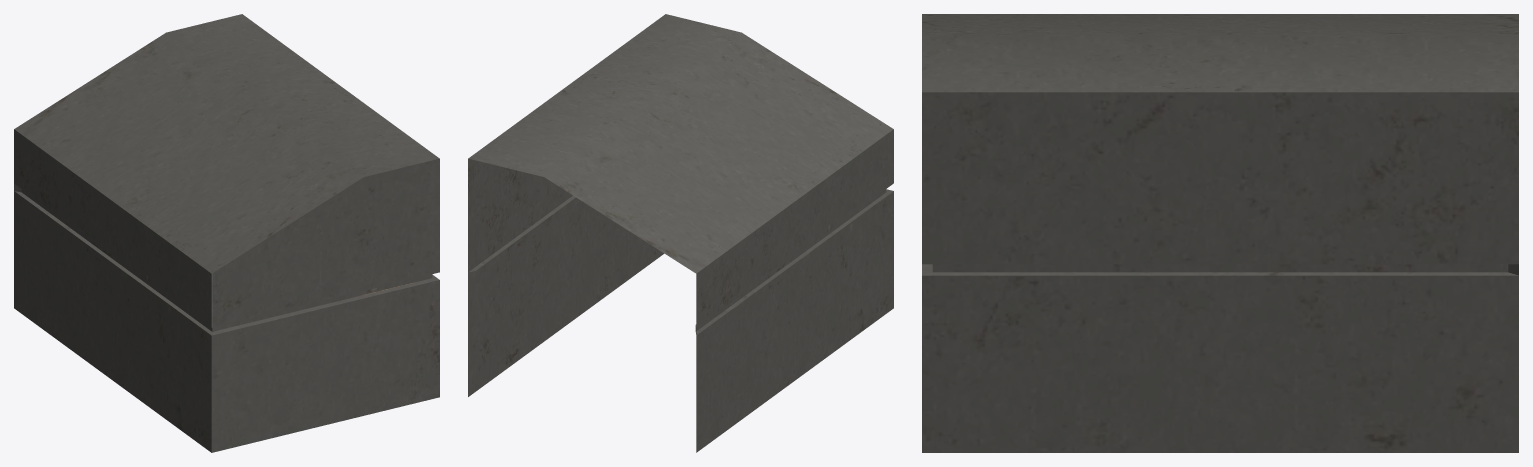
File: sm_cb01_module17.glb
3 views of the same model, side by side, from view 1: azimuth 30°, elevation 25°; view 2: azimuth 150°, elevation 25°; view 3: azimuth 270°, elevation 25° (orthographic). The views are drawn at different scales.
Parts seen in each view (by area): view 1: sm_cb01_module17; view 2: sm_cb01_module17; view 3: sm_cb01_module17.
Part boxes in pixels (x1,y1,x2,y2): sm_cb01_module17: [14, 14, 439, 452]; sm_cb01_module17: [468, 14, 893, 452]; sm_cb01_module17: [922, 14, 1518, 452].
Size of the model in its own units: 3 by 3 by 4.5.
Materials: 1 (1 with a texture image).
